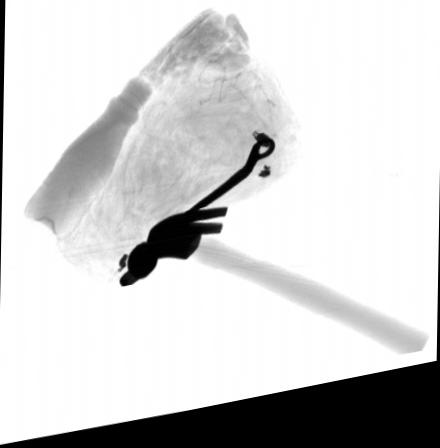Hammer: (126, 216, 427, 371)
Wrench: (117, 148, 274, 292)
